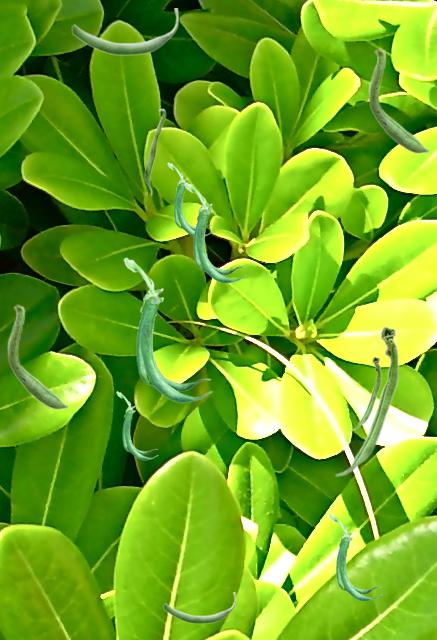french_bean: (123, 257, 211, 402), (334, 325, 398, 476), (7, 303, 68, 409), (368, 47, 429, 153), (184, 182, 245, 282), (71, 8, 178, 55), (328, 513, 381, 600), (167, 162, 212, 236), (116, 391, 157, 459), (349, 356, 380, 430), (163, 592, 235, 623), (144, 108, 165, 195)
